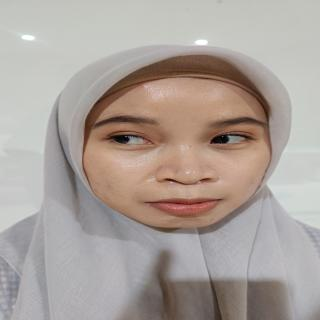Takut: (80, 52, 271, 239)
